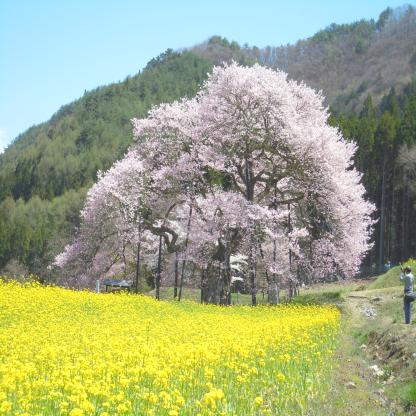EdohiganSakura: (45, 61, 381, 288)
